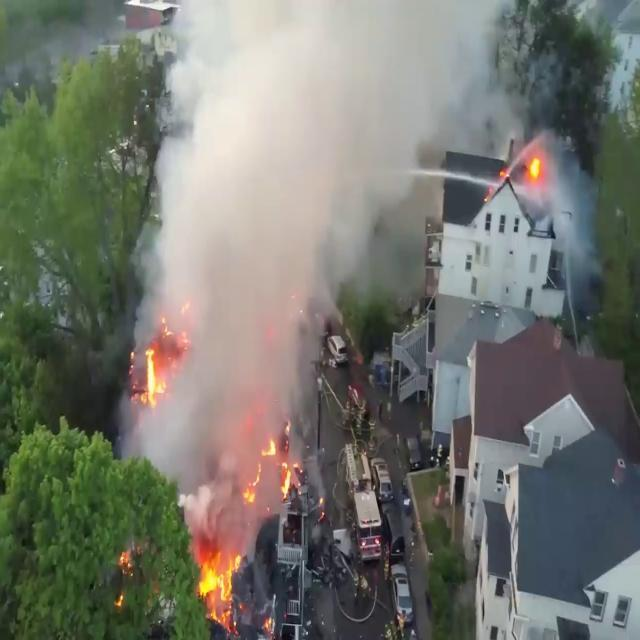Fire: (245, 430, 302, 504), (194, 542, 243, 628), (138, 343, 164, 408), (522, 140, 547, 192)
Smoke: (123, 0, 380, 510), (149, 0, 503, 207), (528, 130, 608, 288)
